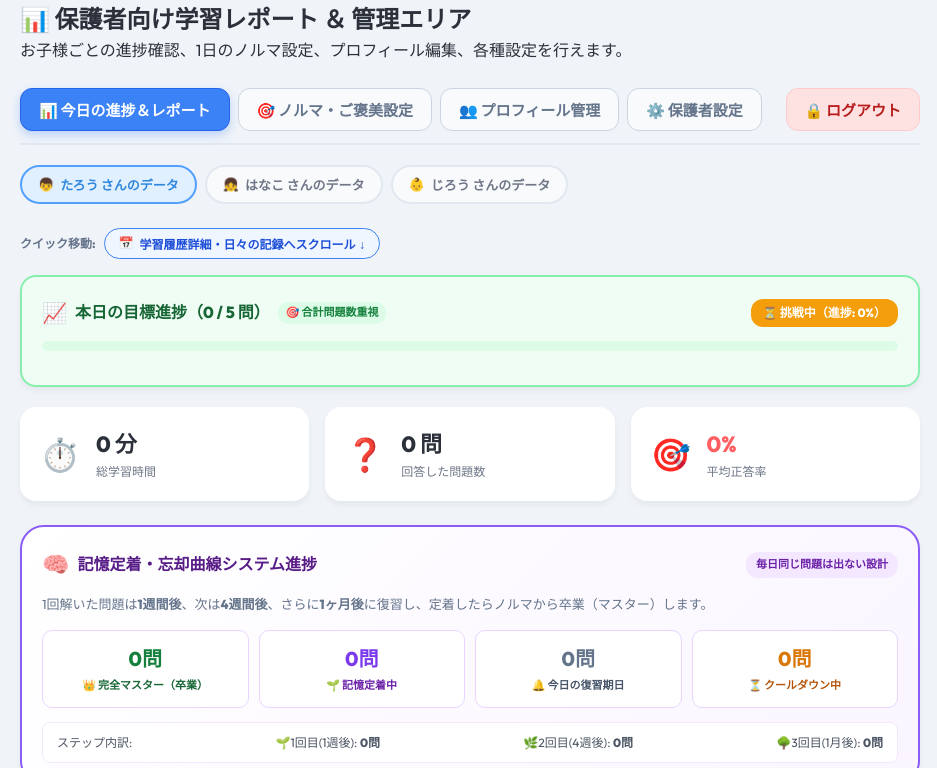
Test case: 保護者管理画面 セッション維持・リロード対応テスト (Parent Session Persistence Test) › 「ログアウト」ボタンをクリックすると認証セッションが破棄され、未認証状態に戻ること
The width and height of the screenshot is (937, 768).
Click the button "🔒 ログアウト": click(853, 110) [786,88,920,131]
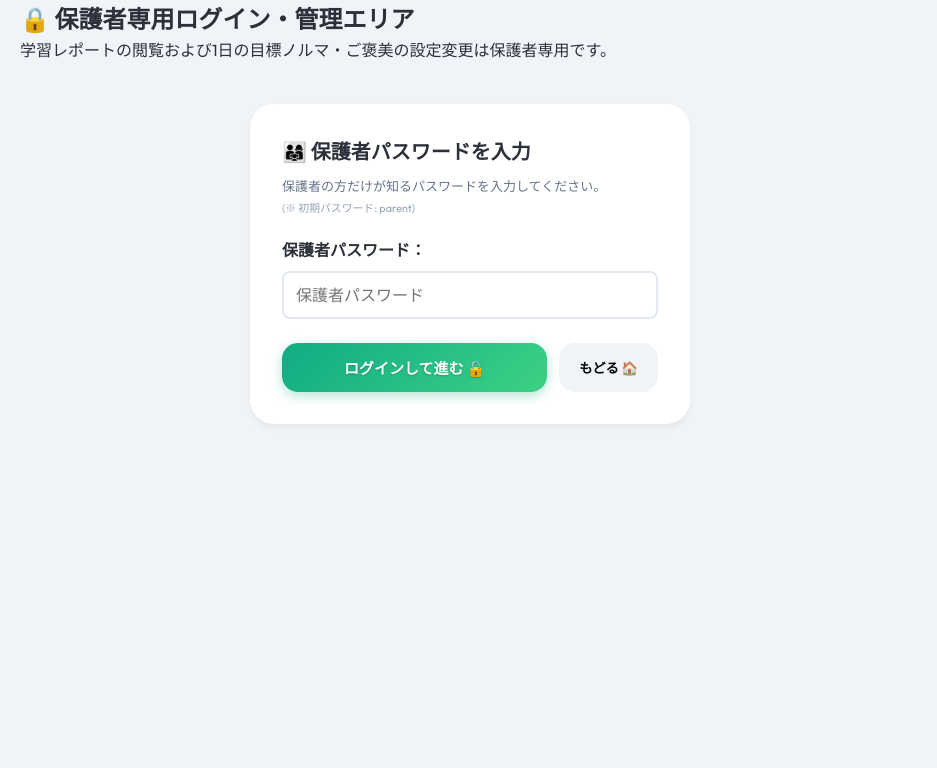
Expected: the password field with placeholder "保護者パスワード" is shown, [282,271,658,319]
